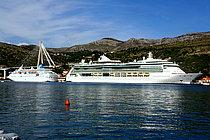Ship: (65, 50, 207, 92)
